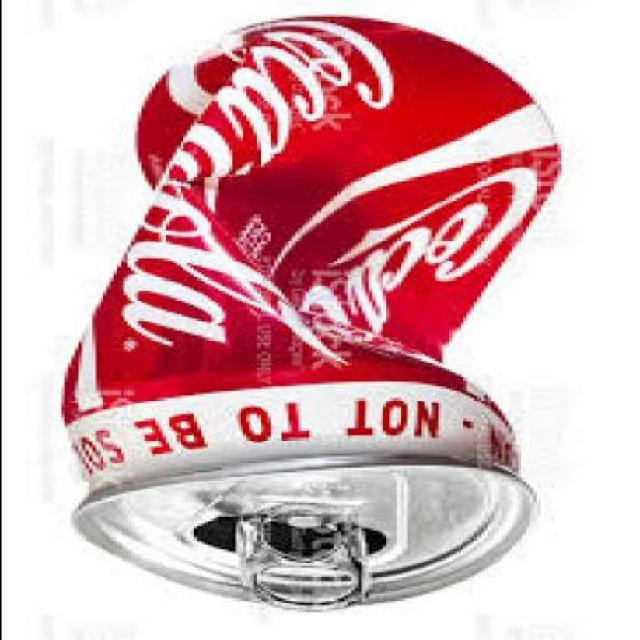METAL: (59, 11, 570, 612), (238, 508, 374, 609)
